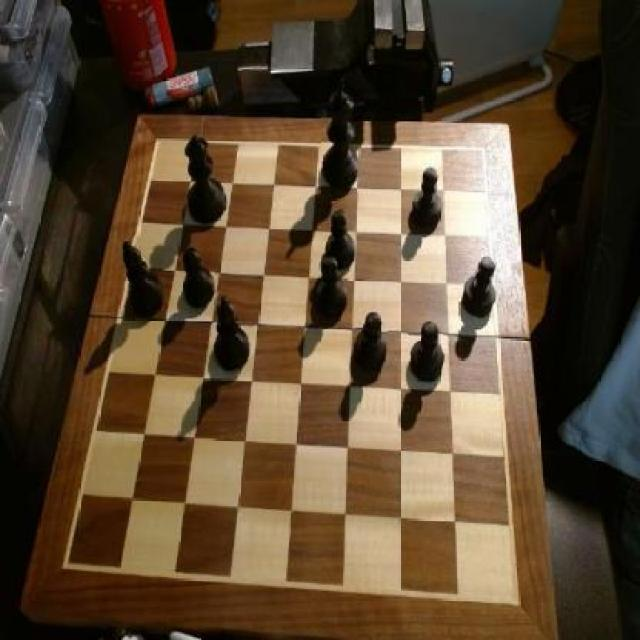bishop: (120, 236, 166, 320), (209, 294, 253, 377)
black-bishop: (320, 78, 363, 194)
black-knight: (409, 320, 447, 388), (460, 257, 497, 325), (352, 309, 388, 377), (180, 246, 216, 309), (408, 166, 443, 229), (325, 208, 357, 272), (317, 254, 349, 318)
black-pawn: (183, 132, 228, 225)
